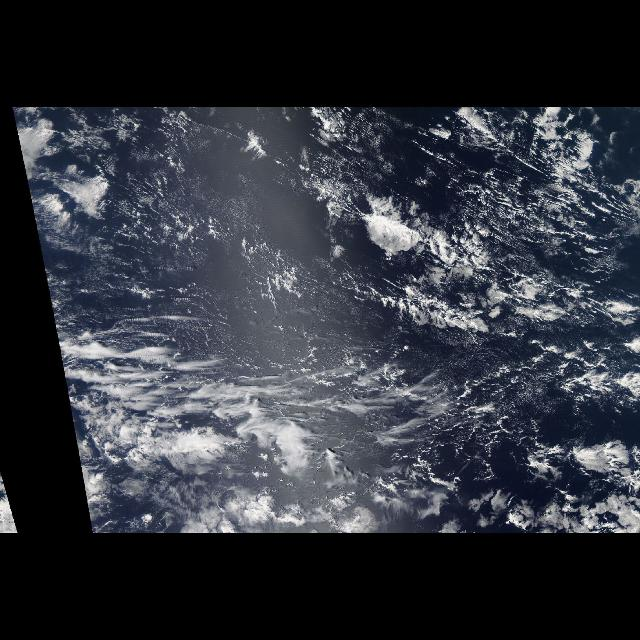Gravel: (438, 349, 582, 481)
Sugar: (132, 152, 324, 366)
